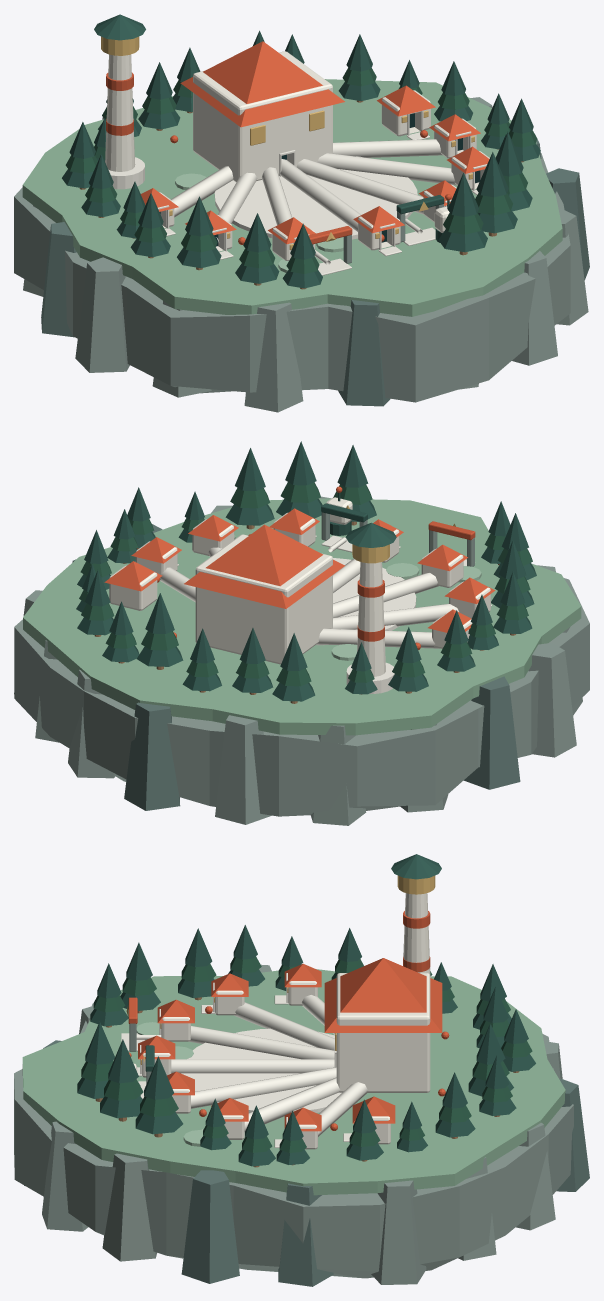
The model's file is chapter-11.glb.
3 views of the same model, one above another, from view 1: azimuth 30°, elevation 25°; view 2: azimuth 150°, elevation 25°; view 3: azimuth 270°, elevation 25° (orthographic). The views are drawn at different scales.
Parts seen in each view (by area): view 1: terrain, rock_base, landmark_celebrity, roof_celebrity, town_plaza, cliff_facet_09, cliff_facet_11, cliff_facet_12, cliff_facet_14, beacon, cliff_facet_08, route.005 (+44 smaller); view 2: terrain, rock_base, landmark_celebrity, roof_celebrity, cliff_facet_04, cliff_facet_05, cliff_facet_08, cliff_facet_09, beacon, cliff_facet_03, cliff_facet_06, route.001 (+40 smaller); view 3: terrain, rock_base, landmark_celebrity, roof_celebrity, cliff_facet_16, cliff_facet_15, cliff_facet_01, town_plaza, cliff_facet_00, cliff_facet_14, route.003, route.004 (+28 smaller).
Boxes of the visible parts, bbox=[...] form: terrain: bbox=[22, 79, 562, 316]; rock_base: bbox=[14, 153, 570, 402]; landmark_celebrity: bbox=[193, 51, 332, 182]; roof_celebrity: bbox=[180, 41, 344, 127]; town_plaza: bbox=[214, 156, 417, 239]; cliff_facet_09: bbox=[75, 257, 129, 372]; cliff_facet_11: bbox=[244, 302, 303, 412]; cliff_facet_12: bbox=[338, 300, 390, 406]; cliff_facet_14: bbox=[512, 251, 557, 365]; beacon: bbox=[105, 54, 135, 171]; cliff_facet_08: bbox=[41, 222, 76, 337]; route.005: bbox=[317, 153, 456, 185]; terrain: bbox=[23, 498, 581, 735]; rock_base: bbox=[14, 578, 589, 816]; landmark_celebrity: bbox=[195, 534, 332, 664]; roof_celebrity: bbox=[184, 524, 344, 608]; cliff_facet_04: bbox=[124, 702, 180, 810]; cliff_facet_05: bbox=[215, 715, 271, 824]; cliff_facet_08: bbox=[464, 676, 520, 789]; cliff_facet_09: bbox=[528, 643, 576, 757]; beacon: bbox=[357, 562, 385, 676]; cliff_facet_03: bbox=[68, 669, 116, 778]; cliff_facet_06: bbox=[310, 725, 366, 825]; route.001: bbox=[332, 603, 458, 629]; terrain: bbox=[22, 969, 565, 1195]; rock_base: bbox=[14, 1003, 573, 1278]; landmark_celebrity: bbox=[336, 973, 430, 1092]; roof_celebrity: bbox=[324, 958, 442, 1032]; cliff_facet_16: bbox=[181, 1170, 239, 1283]; cliff_facet_15: bbox=[102, 1153, 156, 1261]; cliff_facet_01: bbox=[371, 1180, 426, 1284]; town_plaza: bbox=[181, 1028, 341, 1112]; cliff_facet_00: bbox=[278, 1183, 333, 1286]; cliff_facet_14: bbox=[42, 1121, 88, 1231]; route.003: bbox=[171, 1059, 334, 1073]; route.004: bbox=[191, 1067, 336, 1108].
Bounding box in the file's own units: 11.67 × 6.41 × 12.19.
